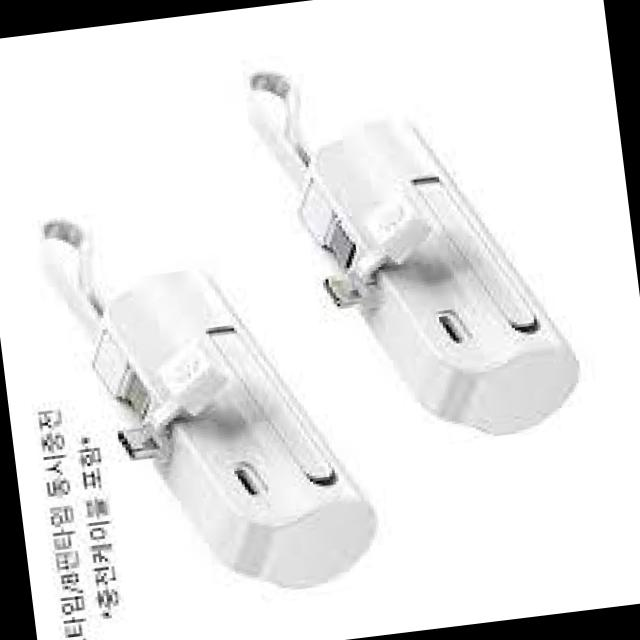power_bank: (78, 244, 382, 602), (284, 99, 586, 448)
